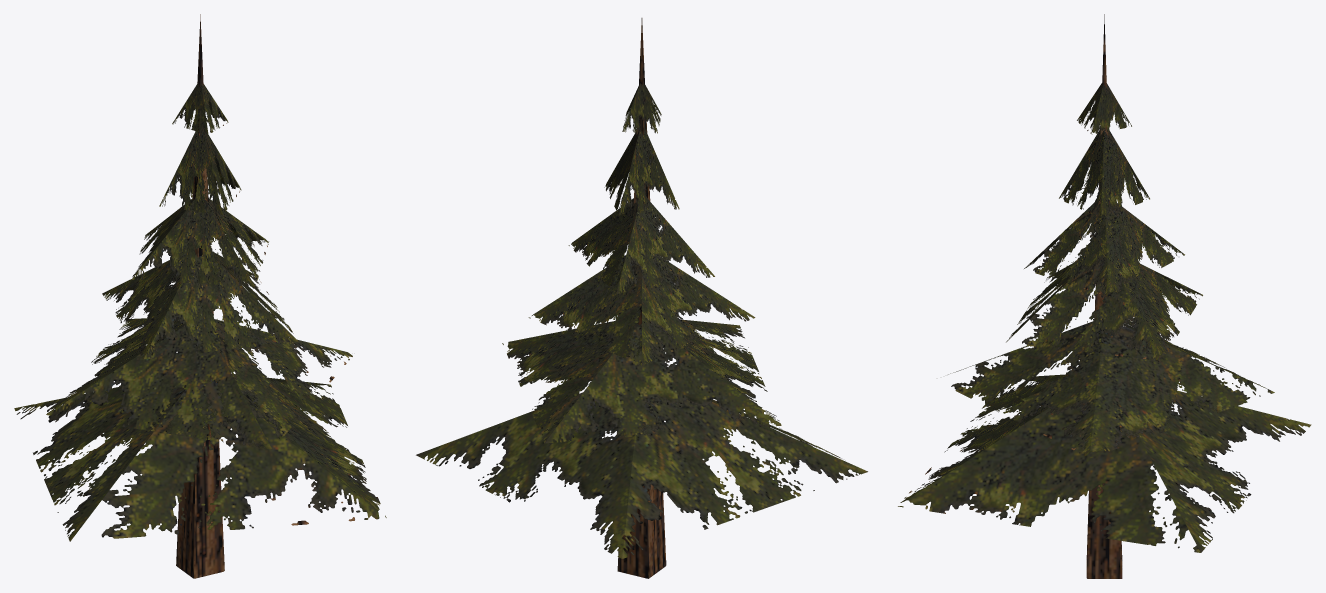
File: tree.fbx
3 renders of one model, left to right at view 1: azimuth 30°, elevation 25°; view 2: azimuth 150°, elevation 25°; view 3: azimuth 270°, elevation 25°, orthographic.
Parts seen in each view (by area): view 1: branch, branch_1, branch_2, branch_3, main, branch_4, branch_5; view 2: branch, branch_1, branch_2, branch_3, branch_4, main, branch_5; view 3: branch, branch_1, branch_2, branch_3, branch_4, main, branch_5.
Part boxes in pixels (x1,y1,x2,y2): branch: (14,374,386,541); branch_1: (46,317,352,449); branch_2: (102,252,298,359); branch_3: (131,198,268,286); main: (176,14,224,578); branch_4: (159,129,241,214); branch_5: (172,83,228,134); branch: (416,392,867,558); branch_1: (502,319,781,443); branch_2: (528,255,755,365); branch_3: (568,198,714,293); branch_4: (604,129,679,214); main: (617,18,666,578); branch_5: (622,83,661,133); branch: (898,374,1311,552); branch_1: (948,319,1274,457); branch_2: (1006,257,1202,360); branch_3: (1024,202,1184,296); branch_4: (1059,129,1149,218); main: (1086,14,1122,578); branch_5: (1077,83,1131,134).
Bounding box in the file's own units: 1154 × 1712 × 1154.
1 material, 1 textured.
